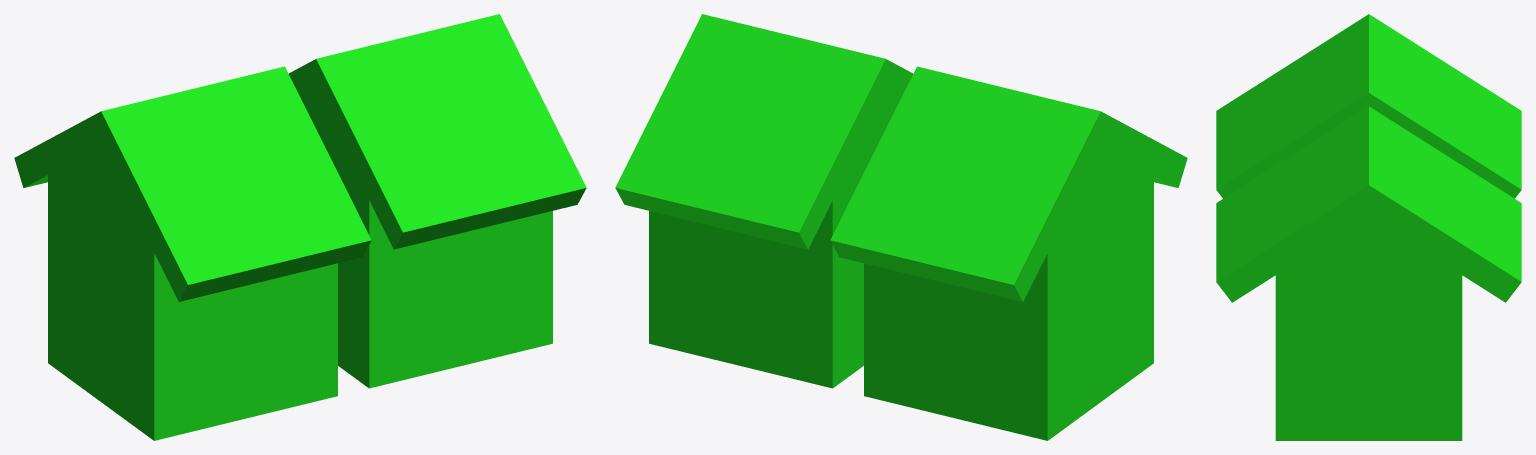
Rendered from maison2.glb.
The picture shows the model from 3 angles, left to right: view 1: azimuth 30°, elevation 25°; view 2: azimuth 150°, elevation 25°; view 3: azimuth 270°, elevation 25°; orthographic projection. The views are drawn at different scales.
Parts seen in each view (by area): view 1: Cube.003; view 2: Cube.003; view 3: Cube.003.
Boxes of the visible parts, x1,y1,x2,y2 form: Cube.003: (14, 14, 586, 440); Cube.003: (615, 14, 1187, 440); Cube.003: (1216, 14, 1521, 440).
Bounding box in the file's own units: 0.548 × 0.3821 × 0.4136.
